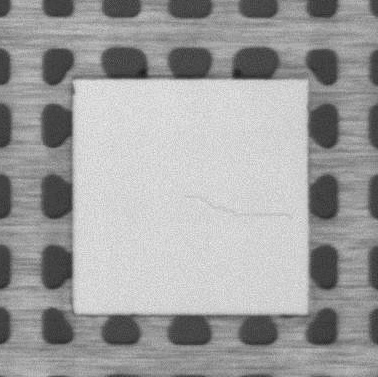DIE_CRACK: (180, 194, 290, 219)
